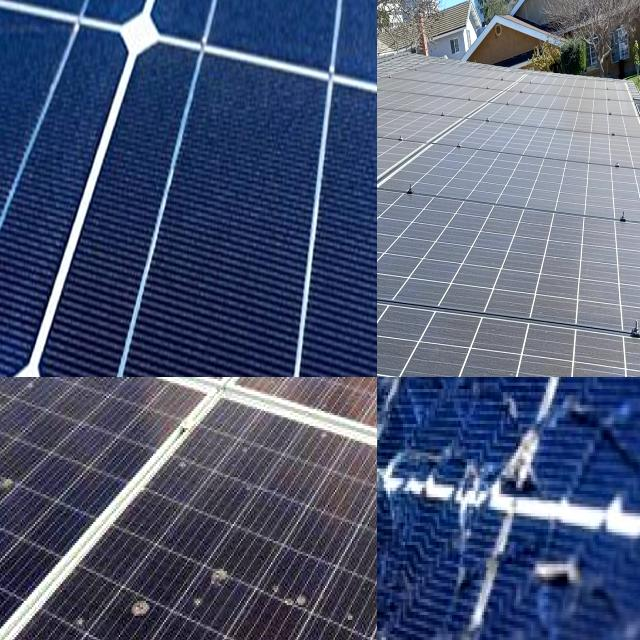bird: (274, 568, 314, 624), (125, 591, 168, 622), (0, 397, 23, 453), (0, 586, 29, 622), (0, 466, 24, 502), (72, 603, 93, 640), (213, 566, 237, 594), (341, 590, 358, 626), (0, 503, 15, 542), (372, 591, 377, 629)
crack: (13, 0, 377, 377)
dust: (384, 210, 499, 302), (520, 243, 640, 313), (523, 329, 640, 377), (377, 306, 451, 373), (450, 155, 550, 196), (567, 166, 640, 212), (377, 233, 408, 292), (377, 136, 418, 176), (377, 193, 401, 230)
hotspot: (392, 464, 549, 640)
